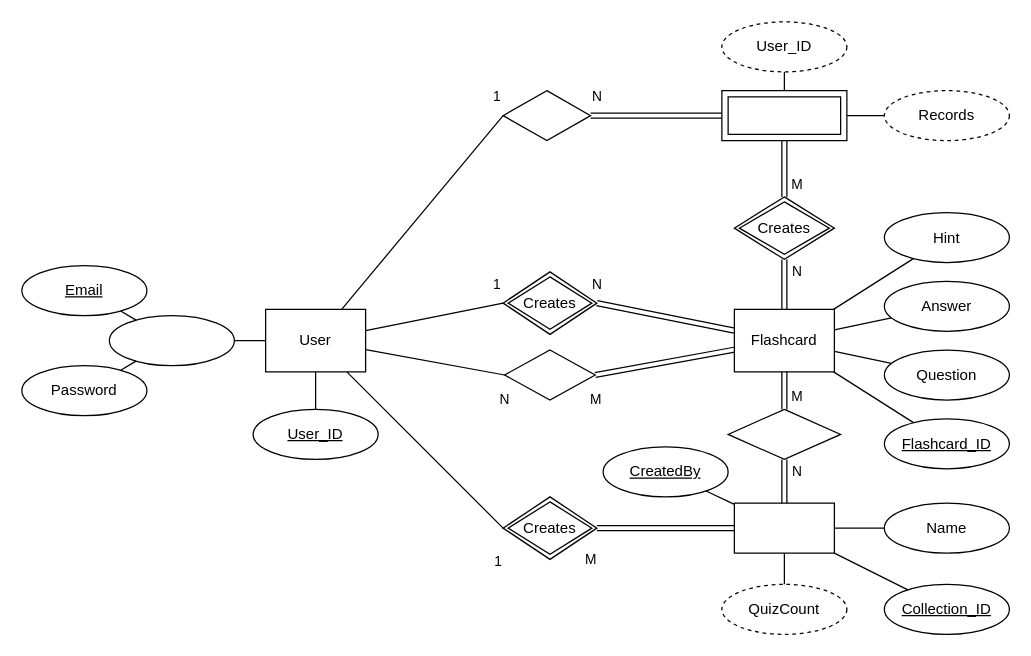
Some shapes in this 1031 by 656 pixel diagram are drawn without their labels. The box of each missing label's shape, as (x1, y1, x2, y2) in pixels:
Collection: (733, 502, 834, 553)
has: (727, 408, 841, 459)
Log In: (108, 314, 234, 366)
Stastics: (721, 89, 847, 141)
Takes: (503, 349, 595, 400)
Views: (502, 89, 591, 141)
